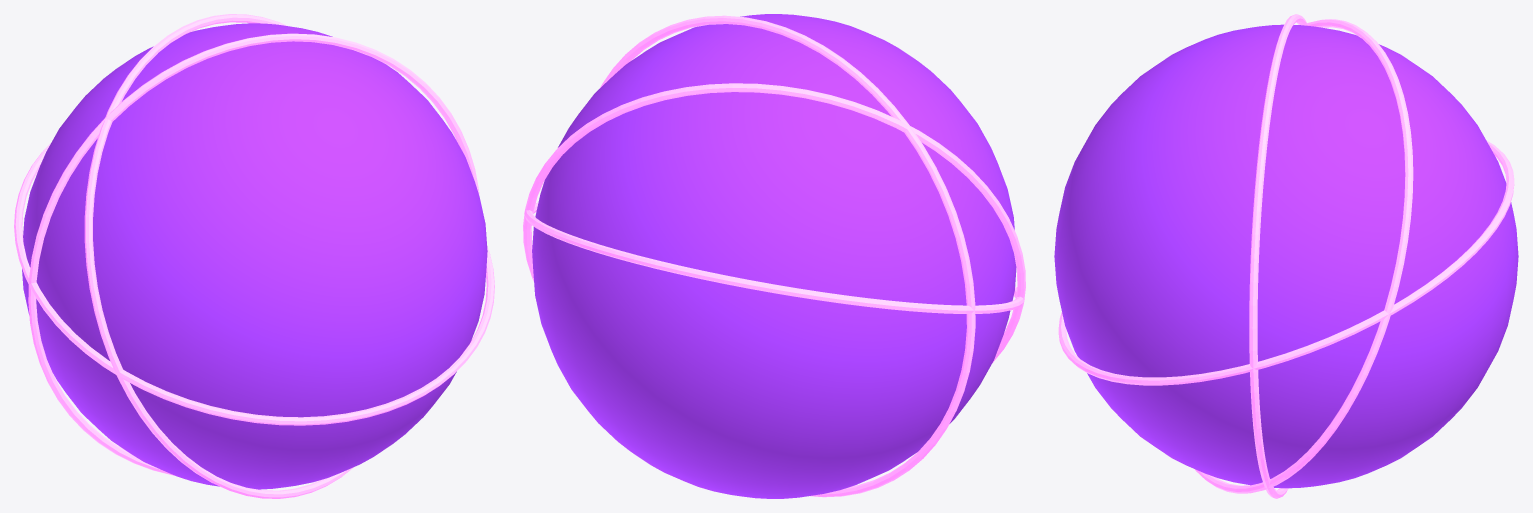
File: purple-bear-orb.glb
3 views of the same model, side by side, from view 1: azimuth 30°, elevation 25°; view 2: azimuth 150°, elevation 25°; view 3: azimuth 270°, elevation 25° (orthographic). The views are drawn at different scales.
Visible parts, largest first — view 1: Gliding orb, Orb energy ring.002, Orb energy ring.001, Orb energy ring; view 2: Gliding orb, Orb energy ring.002, Orb energy ring.001, Orb energy ring; view 3: Gliding orb, Orb energy ring.001, Orb energy ring, Orb energy ring.002.
Part boxes in pixels (x1,y1,x2,y2): Gliding orb: (22, 23, 487, 489); Orb energy ring.002: (28, 33, 479, 475); Orb energy ring.001: (84, 14, 353, 498); Orb energy ring: (14, 142, 494, 425); Gliding orb: (532, 14, 1016, 498); Orb energy ring.002: (600, 15, 975, 497); Orb energy ring.001: (523, 83, 1025, 362); Orb energy ring: (524, 202, 1024, 313); Gliding orb: (1054, 24, 1518, 488); Orb energy ring.001: (1194, 19, 1413, 493); Orb energy ring: (1058, 140, 1514, 385); Orb energy ring.002: (1249, 14, 1307, 498).
Bounding box in the file's own units: 1.51 × 1.51 × 1.44.
